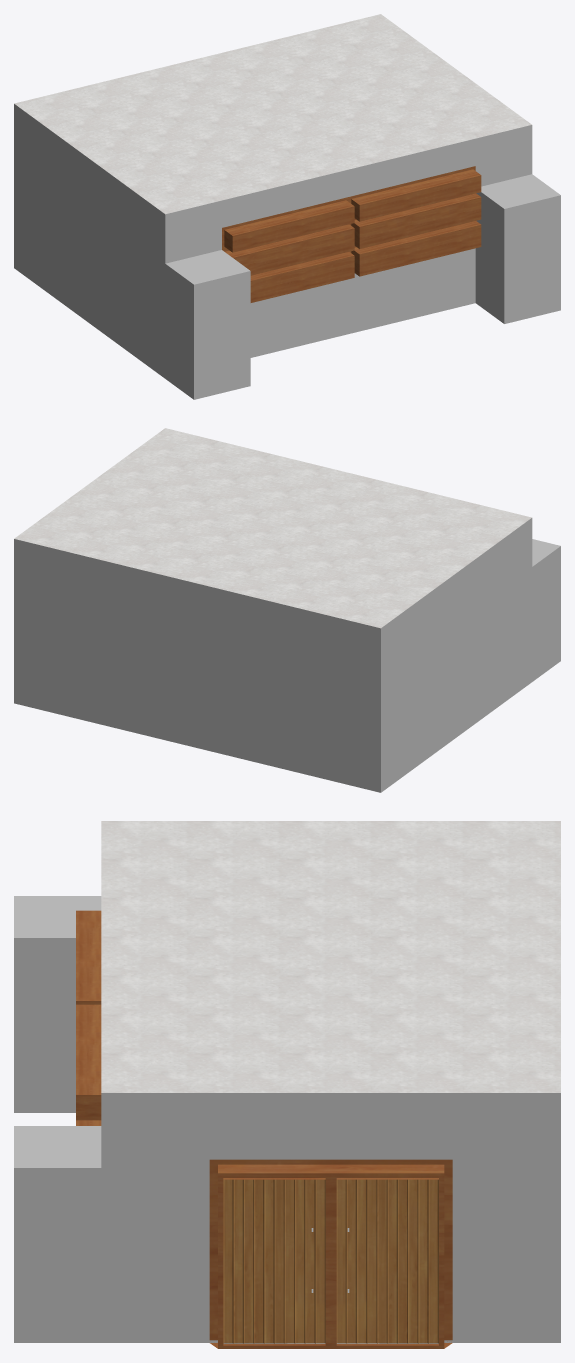
File: Chao + Parede + Teto + Prateleira + Suporte.FBX
3 views of the same model, one above another, from view 1: azimuth 30°, elevation 25°; view 2: azimuth 150°, elevation 25°; view 3: azimuth 270°, elevation 25° (orthographic). The views are drawn at different scales.
Parts seen in each view (by area): view 1: Paredes, Teto, Prateleira Balcao; view 2: Paredes, Teto; view 3: Teto, Paredes, Interior Porta, Borda Porta, Porta, Prateleira Balcao.
Boxes of the visible parts, x1,y1,x2,y2 form: Paredes: (14, 104, 560, 399); Teto: (14, 14, 531, 214); Prateleira Balcao: (222, 166, 481, 302); Paredes: (14, 518, 560, 792); Teto: (14, 428, 531, 628); Teto: (101, 821, 560, 1092); Paredes: (14, 896, 560, 1342); Interior Porta: (223, 1179, 438, 1343); Borda Porta: (209, 1159, 452, 1348); Porta: (218, 1173, 444, 1348); Prateleira Balcao: (76, 910, 101, 1125).
Size of the model in its own units: 719 by 300 by 595.
